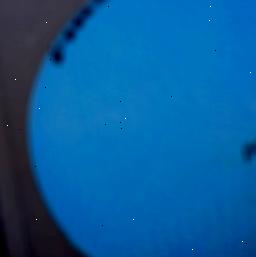algae: (31, 0, 256, 257)
